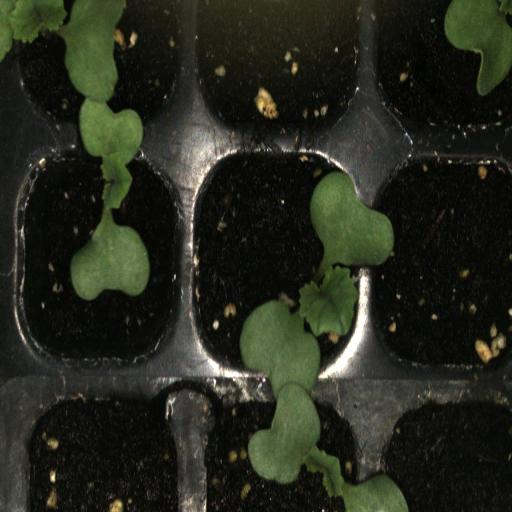noseedling: (368, 133, 512, 382), (190, 0, 369, 138), (15, 384, 187, 512)
seedling: (186, 136, 368, 384), (7, 133, 186, 375), (6, 0, 189, 132), (192, 381, 369, 512)
